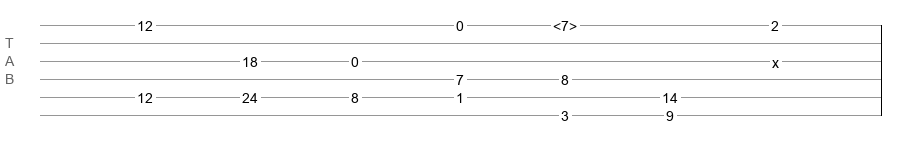0: (351, 54, 359, 64), (456, 18, 464, 28)
1: (456, 90, 464, 100)
12: (137, 18, 153, 28), (137, 90, 153, 100)
14: (662, 90, 678, 100)
18: (242, 54, 258, 64)
2: (771, 18, 779, 28)
24: (242, 90, 258, 100)
3: (561, 108, 569, 118)
7: (456, 72, 464, 82)
8: (351, 90, 359, 100), (561, 72, 569, 82)
9: (666, 108, 674, 118)
harmonic: (553, 18, 577, 28)
x: (772, 55, 779, 63)
